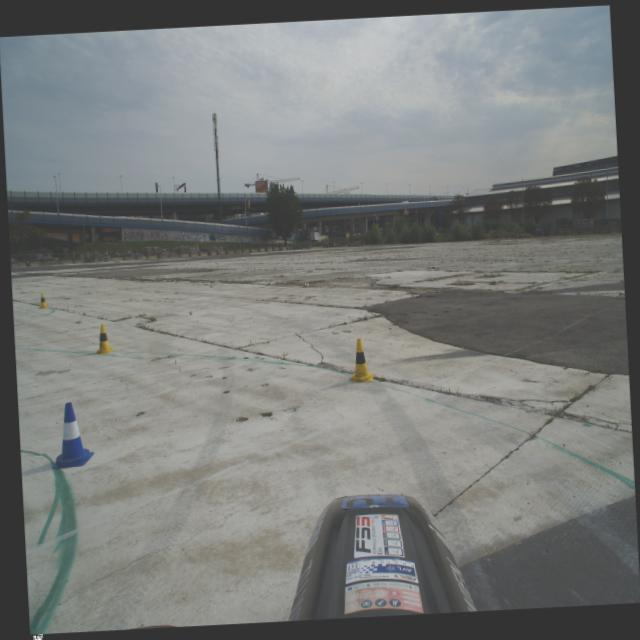blue_cone: (49, 401, 95, 469)
yellow_cone: (348, 338, 374, 383), (94, 324, 115, 355), (38, 293, 48, 309)
